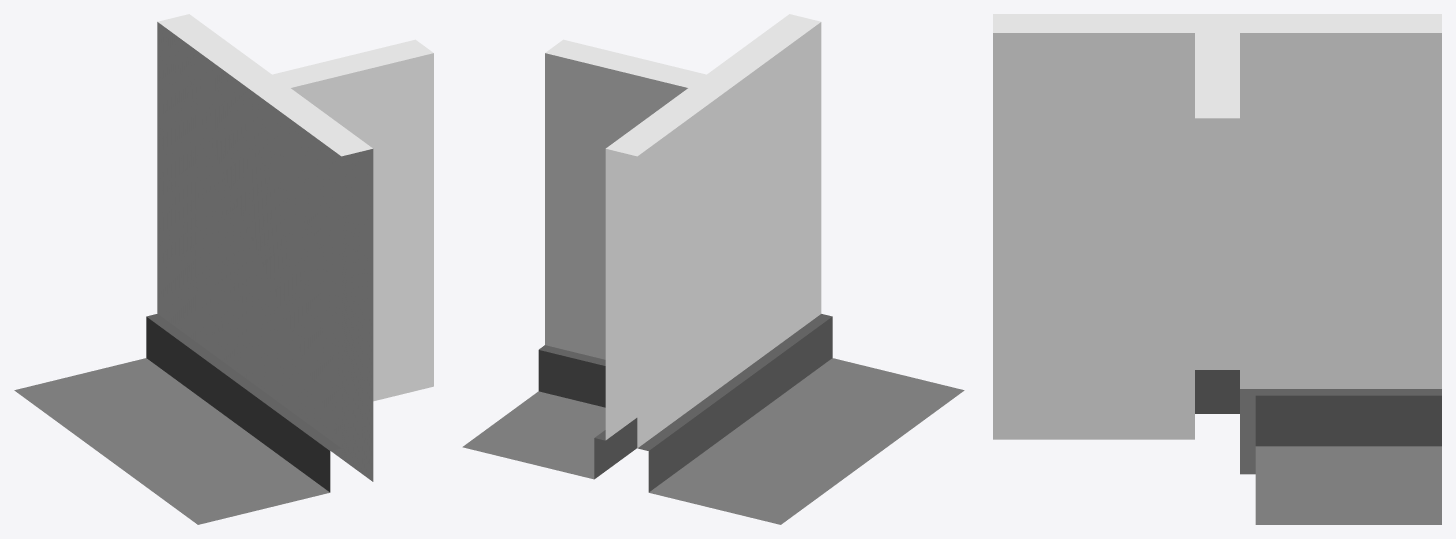
File: I_Wall_T_Shape_Elevator_L.fbx
3 renders of one model, left to right at view 1: azimuth 30°, elevation 25°; view 2: azimuth 150°, elevation 25°; view 3: azimuth 270°, elevation 25°, orthographic. The views are drawn at different scales.
Parts seen in each view (by area): view 1: I_Wall_T_Shape_Elevator_L; view 2: I_Wall_T_Shape_Elevator_L; view 3: I_Wall_T_Shape_Elevator_L.
Boxes of the visible parts, bbox=[...] form: I_Wall_T_Shape_Elevator_L: bbox=[14, 14, 433, 524]; I_Wall_T_Shape_Elevator_L: bbox=[462, 14, 964, 524]; I_Wall_T_Shape_Elevator_L: bbox=[993, 14, 1441, 524].
Bounding box in the file's own units: 200 × 200 × 200.
